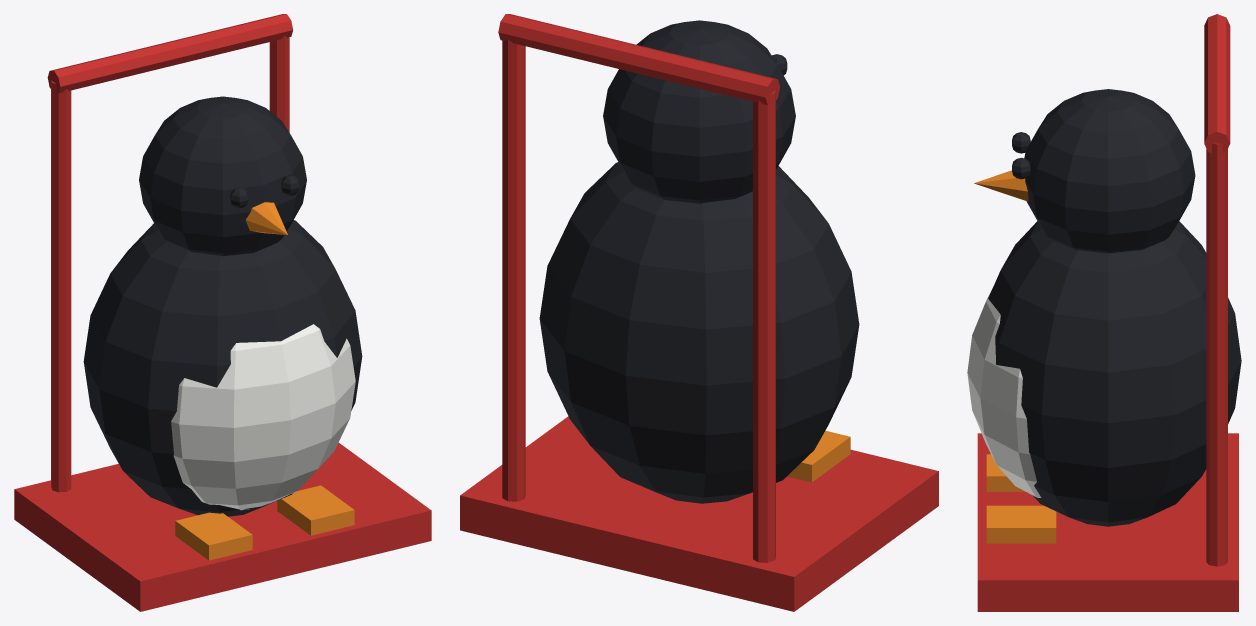
File: skating_penguin.glb
3 views of the same model, side by side, from view 1: azimuth 30°, elevation 25°; view 2: azimuth 150°, elevation 25°; view 3: azimuth 270°, elevation 25° (orthographic). The views are drawn at different scales.
Visible parts, largest first — view 1: body_penguin_black, sled_penguin_sled, belly_penguin_white, head_penguin_black, bar_post_penguin_sled, bar_penguin_sled, foot_penguin_orange, beak_penguin_orange, eye_penguin_black; view 2: body_penguin_black, sled_penguin_sled, head_penguin_black, bar_post_penguin_sled, bar_penguin_sled, foot_penguin_orange; view 3: body_penguin_black, sled_penguin_sled, head_penguin_black, bar_post_penguin_sled, belly_penguin_white, bar_penguin_sled, foot_penguin_orange, beak_penguin_orange, eye_penguin_black.
Part boxes in pixels (x1,y1,x2,y2): body_penguin_black: (83,220,362,516); sled_penguin_sled: (14,442,431,611); belly_penguin_white: (171,324,355,510); head_penguin_black: (139,96,306,256); bar_post_penguin_sled: (51,36,289,492); bar_penguin_sled: (47,14,292,93); foot_penguin_orange: (175,485,354,560); beak_penguin_orange: (245,202,287,234); eye_penguin_black: (230,175,299,208); body_penguin_black: (539,162,859,503); sled_penguin_sled: (460,416,938,611); head_penguin_black: (603,20,795,203); bar_post_penguin_sled: (502,39,775,562); bar_penguin_sled: (498,14,779,105); foot_penguin_orange: (787,430,850,482); body_penguin_black: (988,221,1241,526); sled_penguin_sled: (977,433,1238,611); head_penguin_black: (1024,89,1195,253); bar_post_penguin_sled: (1206,143,1227,566); belly_penguin_white: (967,290,1041,497); bar_penguin_sled: (1204,14,1230,153); foot_penguin_orange: (986,454,1056,543); beak_penguin_orange: (974,170,1028,201); eye_penguin_black: (1012,132,1030,179).
Size of the model in its own units: 0.8 by 1.18 by 0.63.
